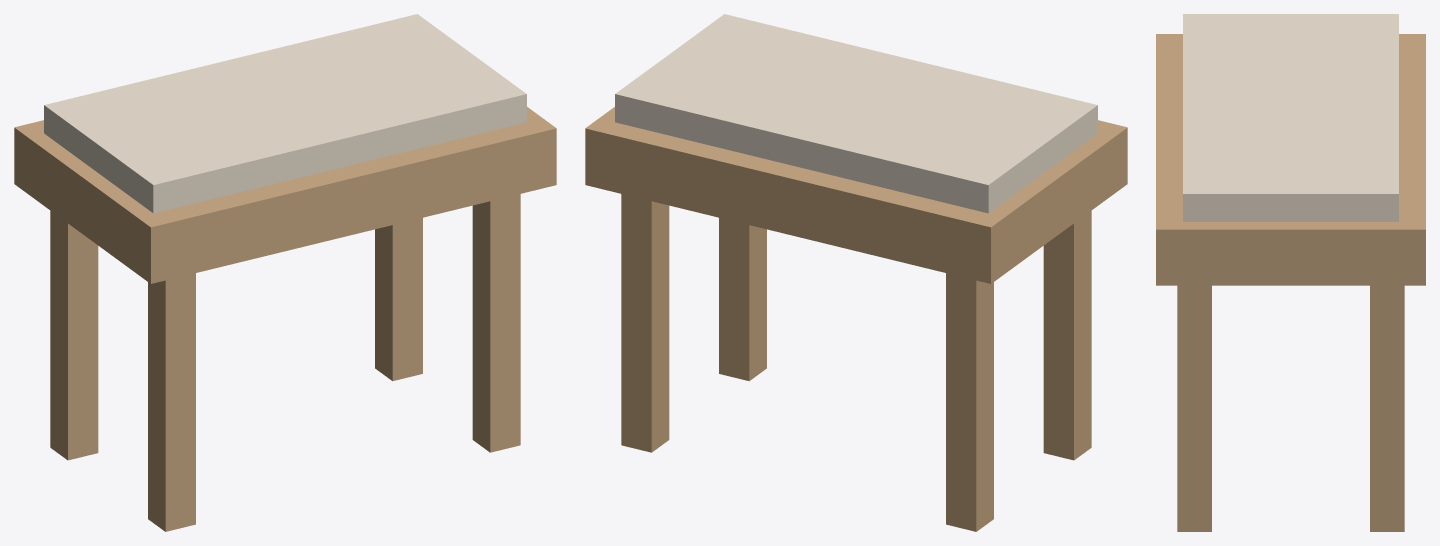
Rendered from mocan-45.glb.
3 views of the same model, side by side, from view 1: azimuth 30°, elevation 25°; view 2: azimuth 150°, elevation 25°; view 3: azimuth 270°, elevation 25° (orthographic).
Parts seen in each view (by area): view 1: furniture; view 2: furniture; view 3: furniture.
Boxes of the visible parts, x1,y1,x2,y2 form: furniture: (14, 14, 556, 531); furniture: (585, 14, 1127, 531); furniture: (1156, 14, 1425, 531).
Bounding box in the file's own units: 0.6 × 0.49 × 0.35.
